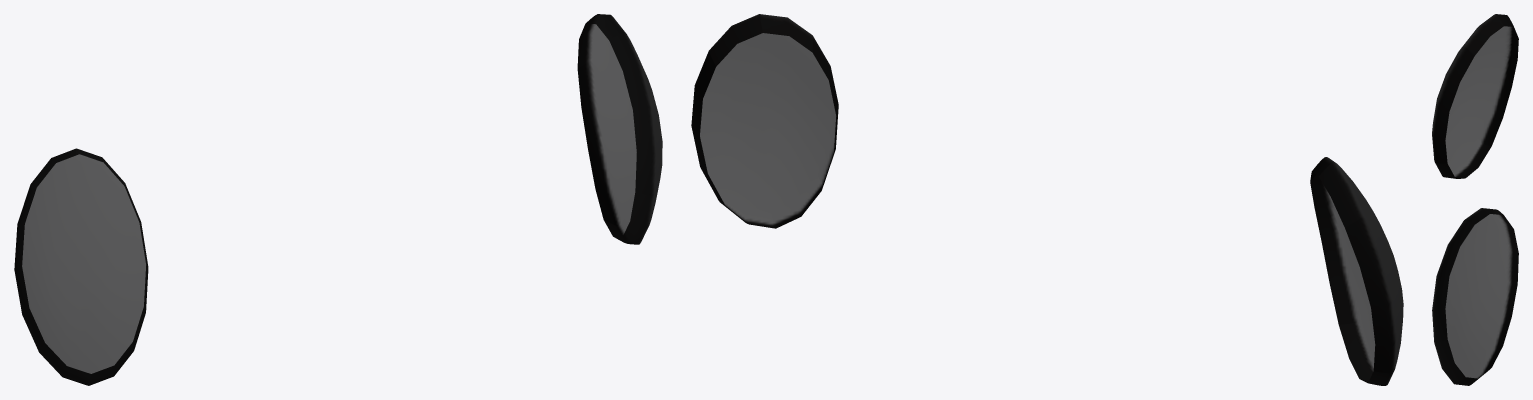
File: BAP_03.glb
3 views of the same model, side by side, from view 1: azimuth 30°, elevation 25°; view 2: azimuth 150°, elevation 25°; view 3: azimuth 270°, elevation 25° (orthographic). The views are drawn at different scales.
Size of the model in its own units: 0.1339 by 0.0447 by 0.0201.
Materials: 1 (1 with a texture image).
